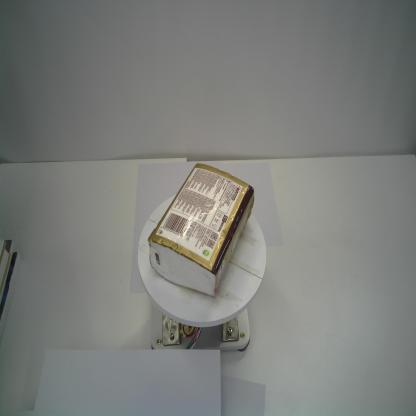Tissue: (146, 162, 254, 298)
